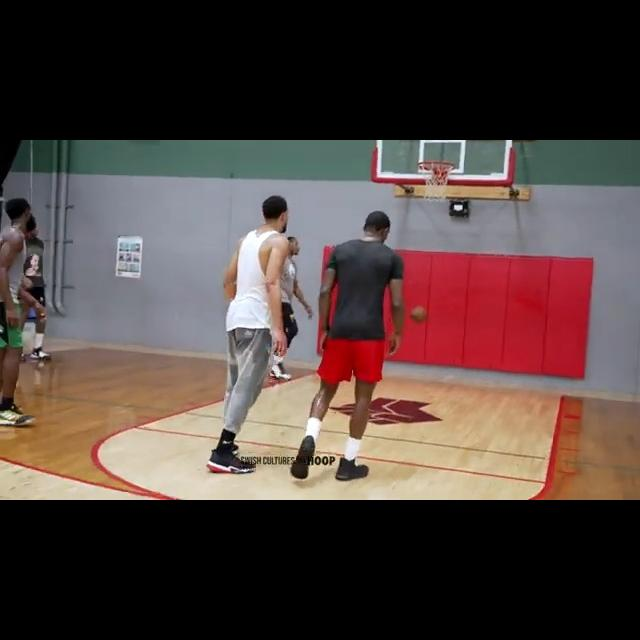basketball: (410, 307, 427, 324)
hoop: (419, 162, 453, 205)
person: (292, 202, 406, 483), (207, 193, 290, 474), (0, 198, 38, 428), (266, 235, 315, 382), (13, 213, 52, 363)
